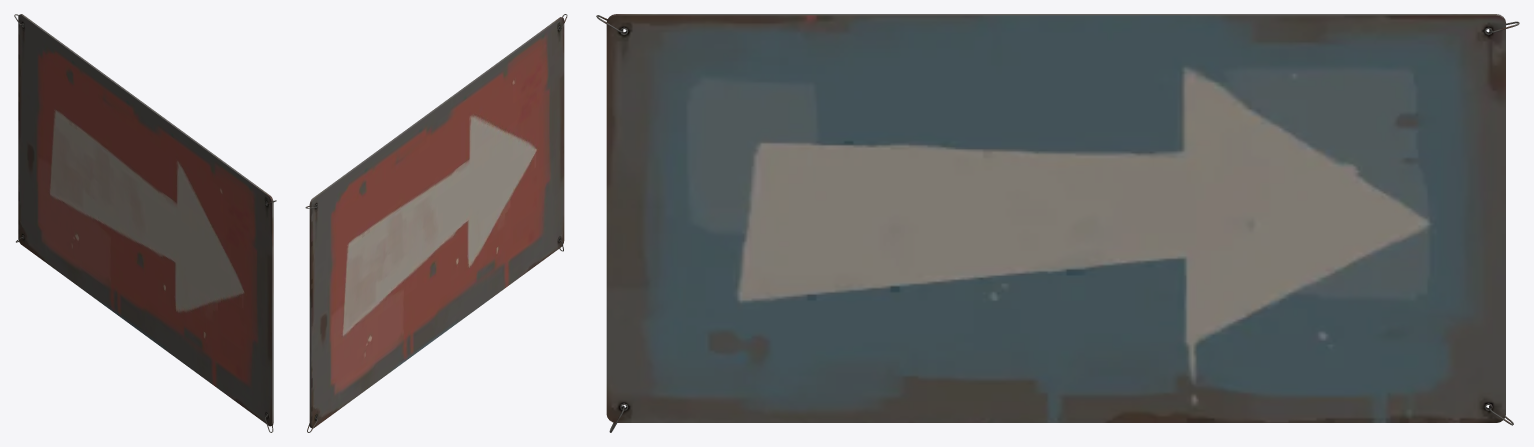
3 renders of one model, left to right at view 1: azimuth 30°, elevation 25°; view 2: azimuth 150°, elevation 25°; view 3: azimuth 270°, elevation 25°, orthographic. The views are drawn at different scales.
Parts seen in each view (by area): view 1: body0_model0_lod0_mesh0; view 2: body0_model0_lod0_mesh0; view 3: body0_model0_lod0_mesh0.
Part boxes in pixels (x1,y1,x2,y2): body0_model0_lod0_mesh0: [14, 14, 276, 432]; body0_model0_lod0_mesh0: [305, 14, 567, 432]; body0_model0_lod0_mesh0: [596, 14, 1519, 432].
Size of the model in its own units: 2.4 by 78.39 by 157.
Materials: 1 (1 with a texture image).
